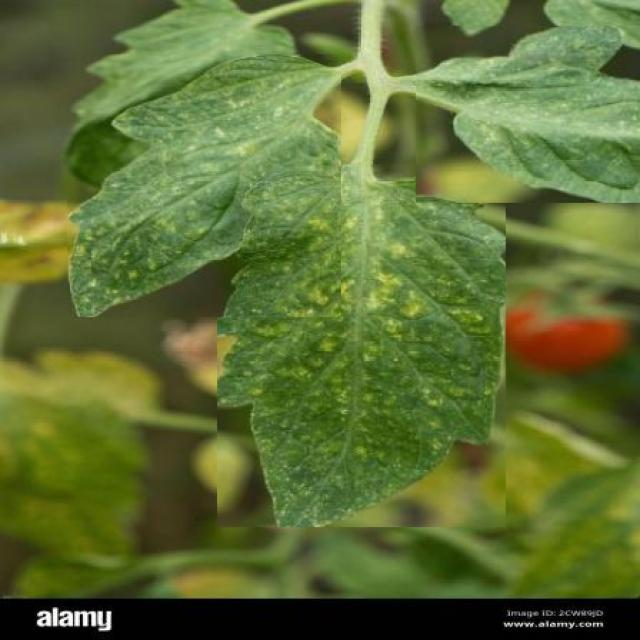Spider Mites: (217, 165, 506, 528), (67, 54, 340, 317), (415, 26, 640, 203)
